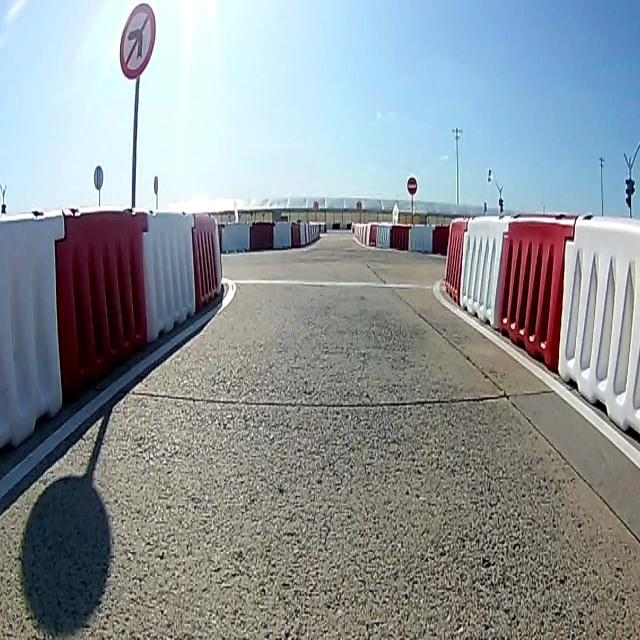girisyok: (406, 173, 419, 199)
soladonulmez: (118, 1, 156, 81)
